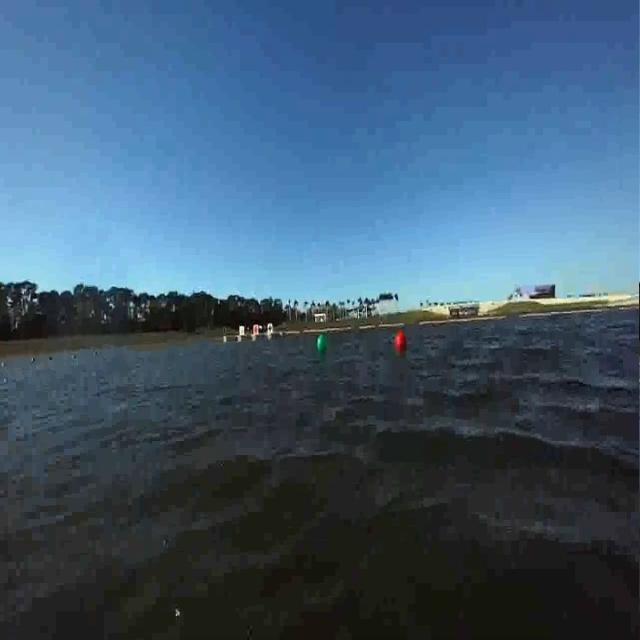green-buoy: (317, 336, 327, 354)
red-buoy: (394, 333, 406, 351)
